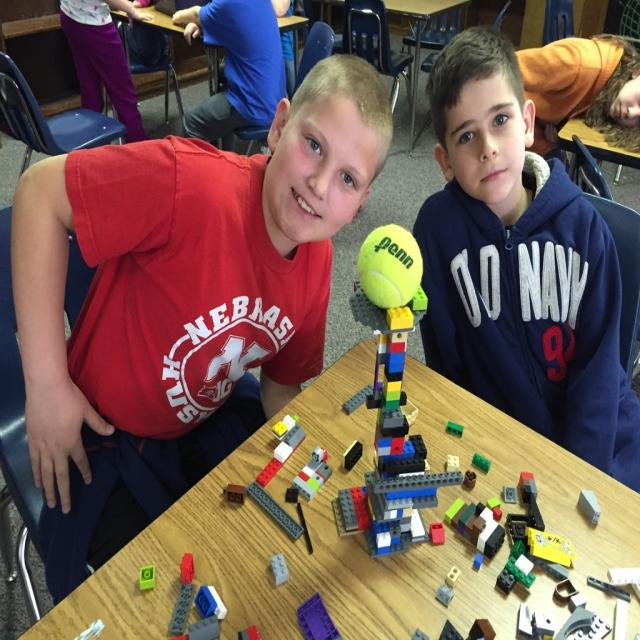Tennis ball: (354, 220, 430, 314)
